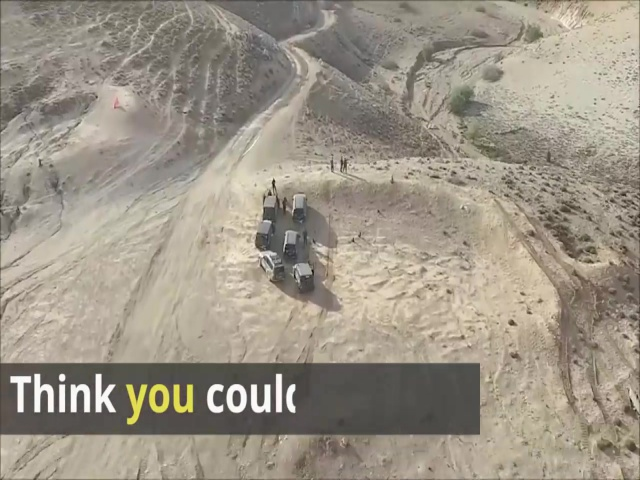person: (302, 228, 309, 247), (281, 196, 288, 214), (271, 178, 277, 194), (329, 157, 334, 173), (339, 156, 344, 172), (344, 158, 348, 172)
vehicle: (257, 249, 287, 284), (291, 261, 317, 295), (255, 220, 275, 250), (282, 228, 299, 260), (291, 194, 308, 224), (261, 194, 278, 222)
